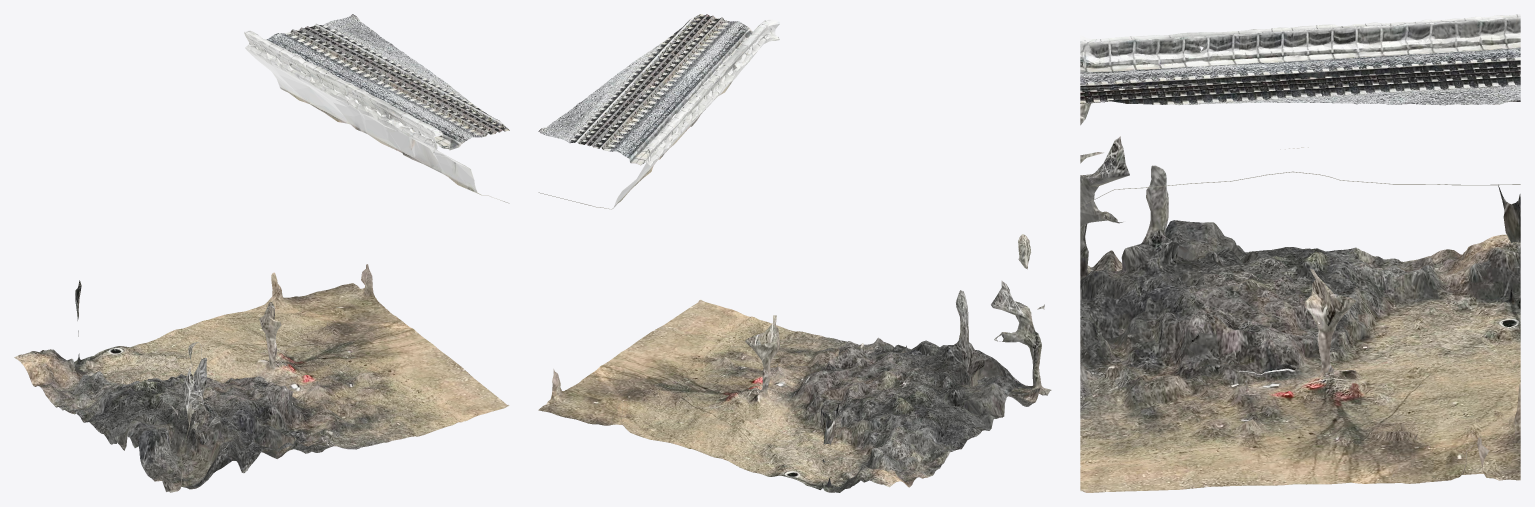
The model's file is Block_L20_295.glb.
3 renders of one model, left to right at view 1: azimuth 30°, elevation 25°; view 2: azimuth 150°, elevation 25°; view 3: azimuth 270°, elevation 25°, orthographic. The views are drawn at different scales.
Visible parts, largest first — view 1: rtc; view 2: rtc; view 3: rtc.
Boxes of the visible parts, x1,y1,x2,y2 form: rtc: [14, 14, 509, 492]; rtc: [538, 14, 1051, 492]; rtc: [1080, 14, 1520, 492].
Size of the model in its own units: 22.09 by 18.43 by 17.64.
4 materials, 4 textured.
